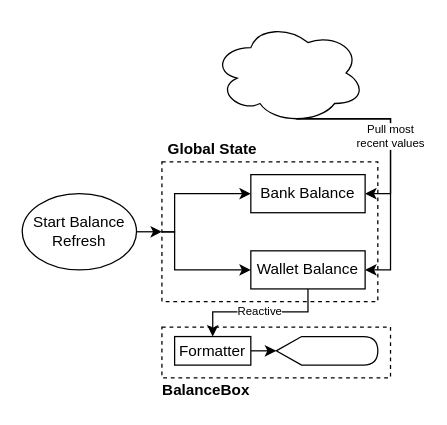
This 447x425 diagram has some shape labels left out. The shapes that lost their labels are listed below. From the top down, each one's centre as x and y in pixels, then its label:
the point at 288,72: Polygon
the point at 326,350: UI Display
